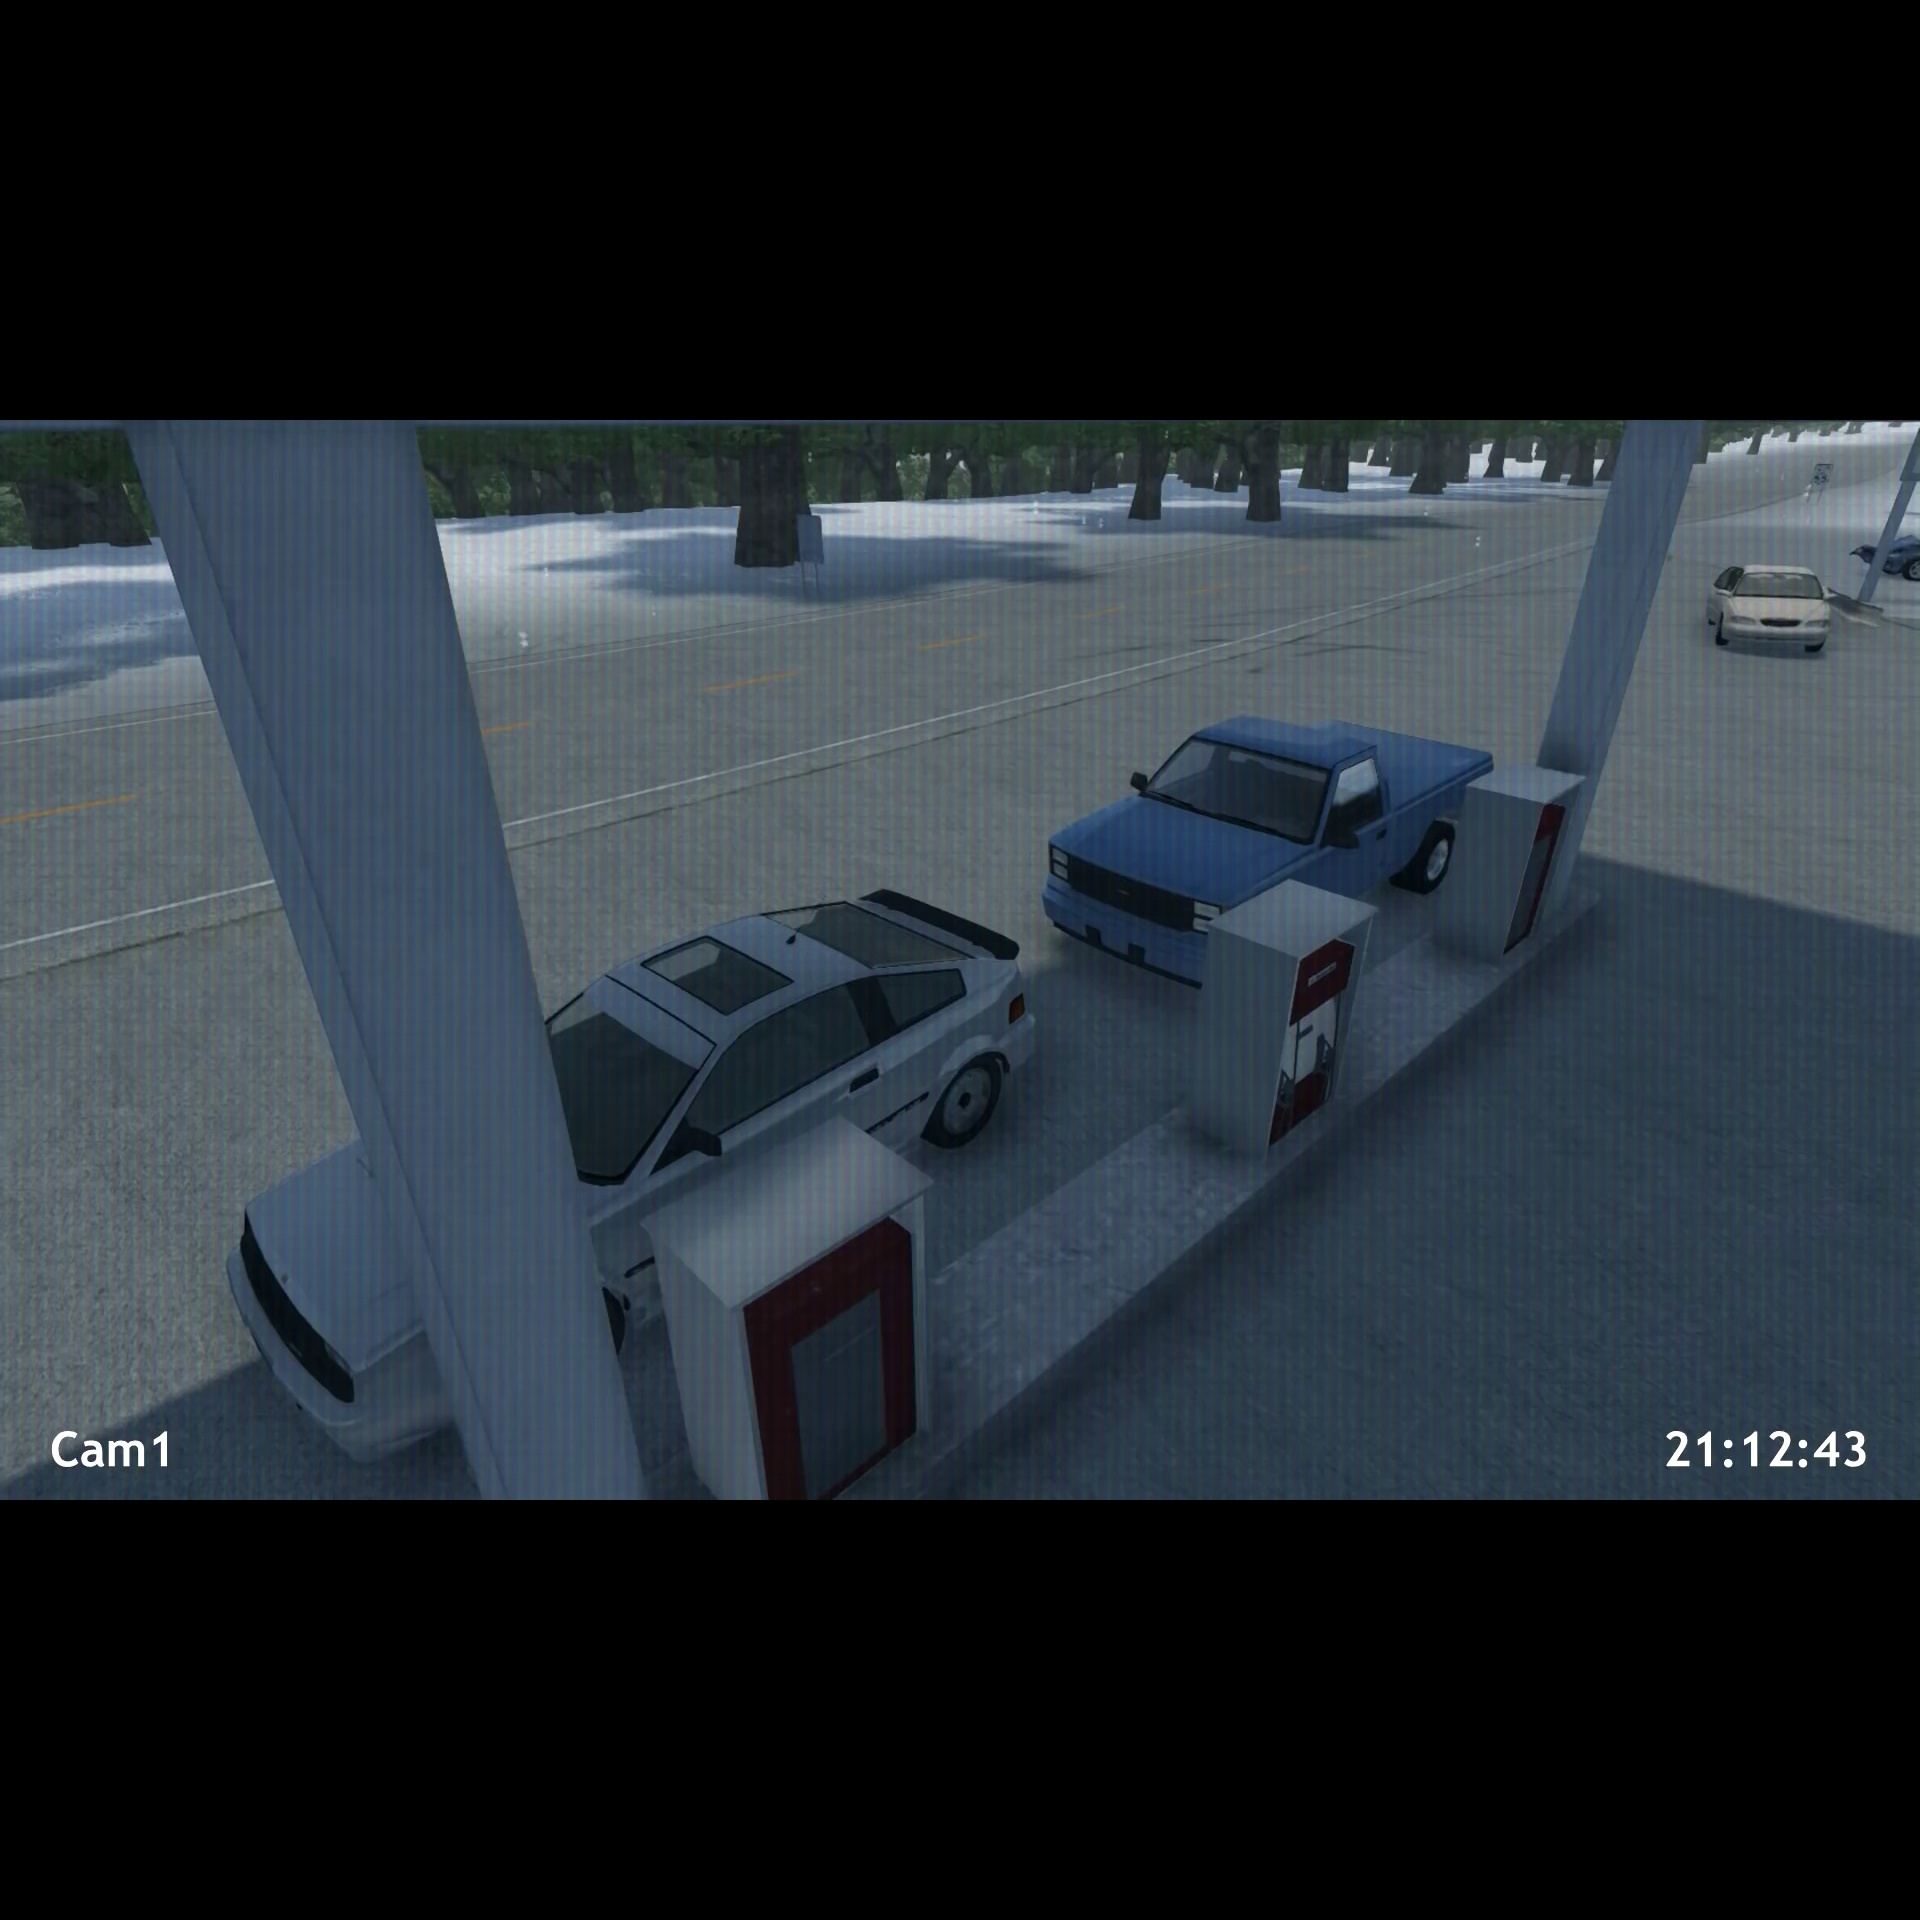vehicle: (220, 876, 1037, 1468), (1034, 702, 1500, 992), (1704, 559, 1850, 663)
